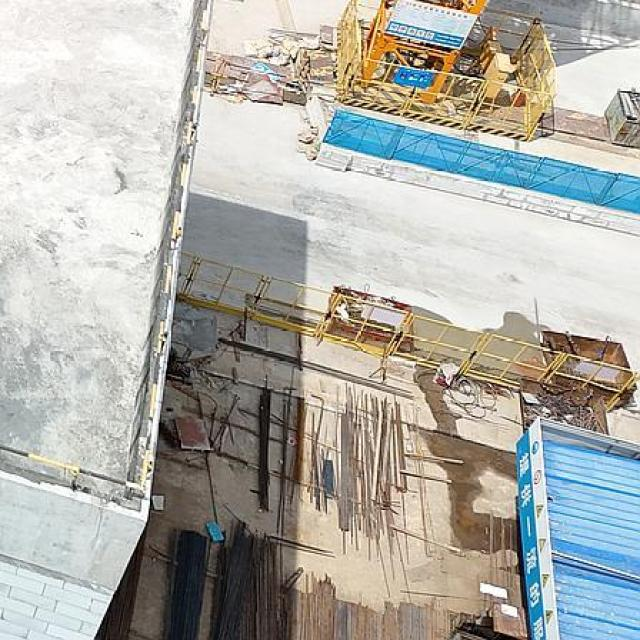edge_guardrail: (0, 0, 210, 499)
